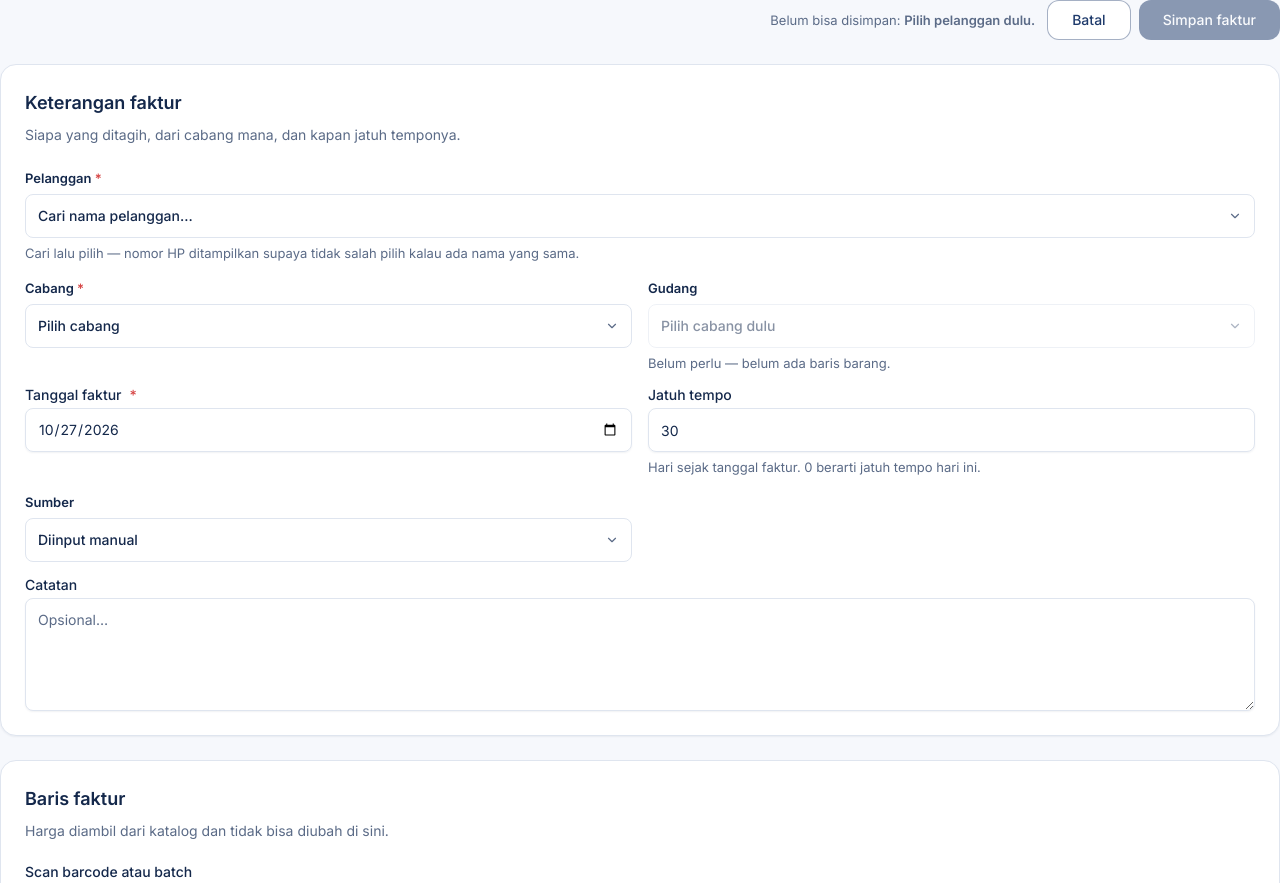
Test: scanning a barcode › a batch label › refuses an expired lot
The image size is (1280, 883).
Click the button "Pilih cabang" at coordinates (79, 325), box [25,304,632,348]
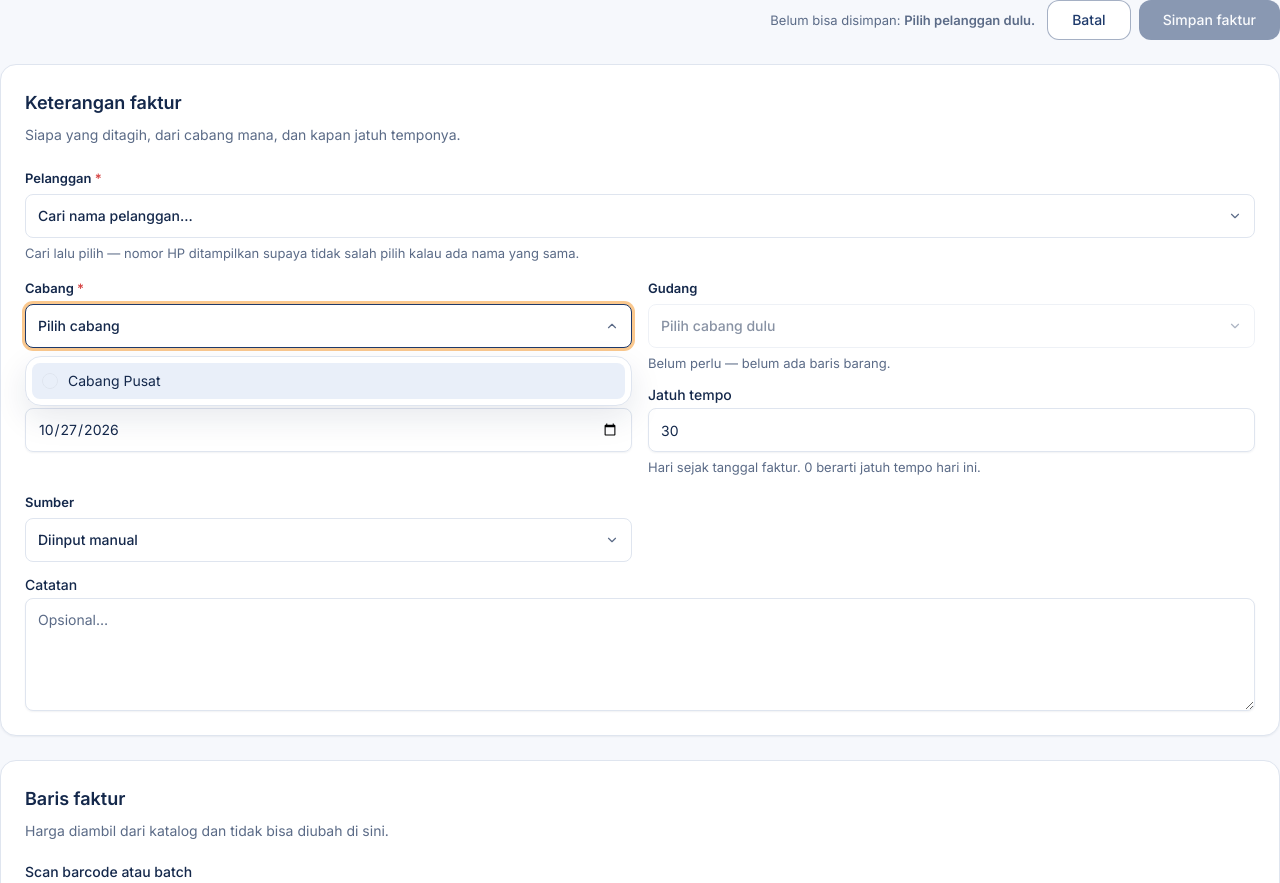
Click the option "Cabang Pusat" at coordinates (114, 380), box [32,363,625,399]
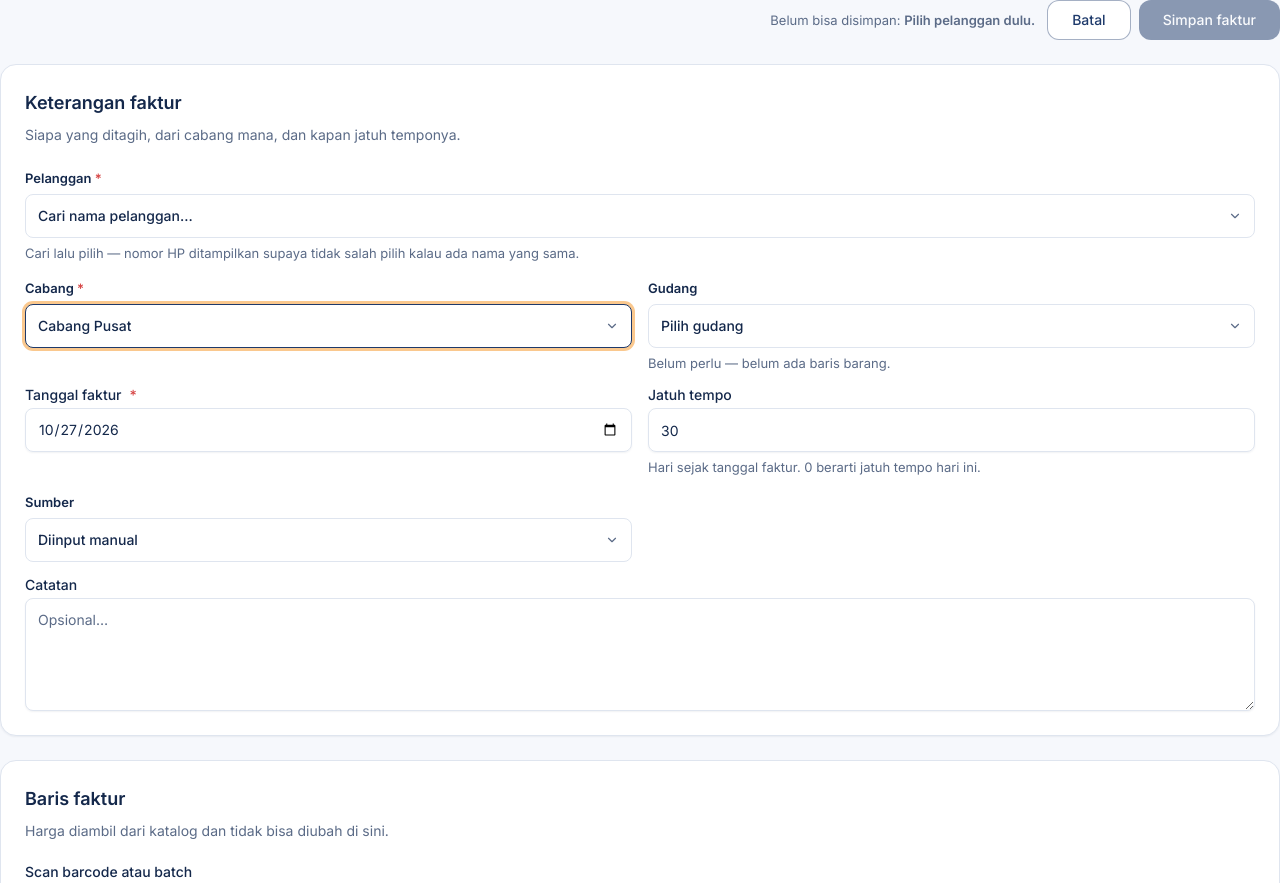
Click the button "Pilih gudang" at coordinates (702, 325), box [648,304,1255,348]
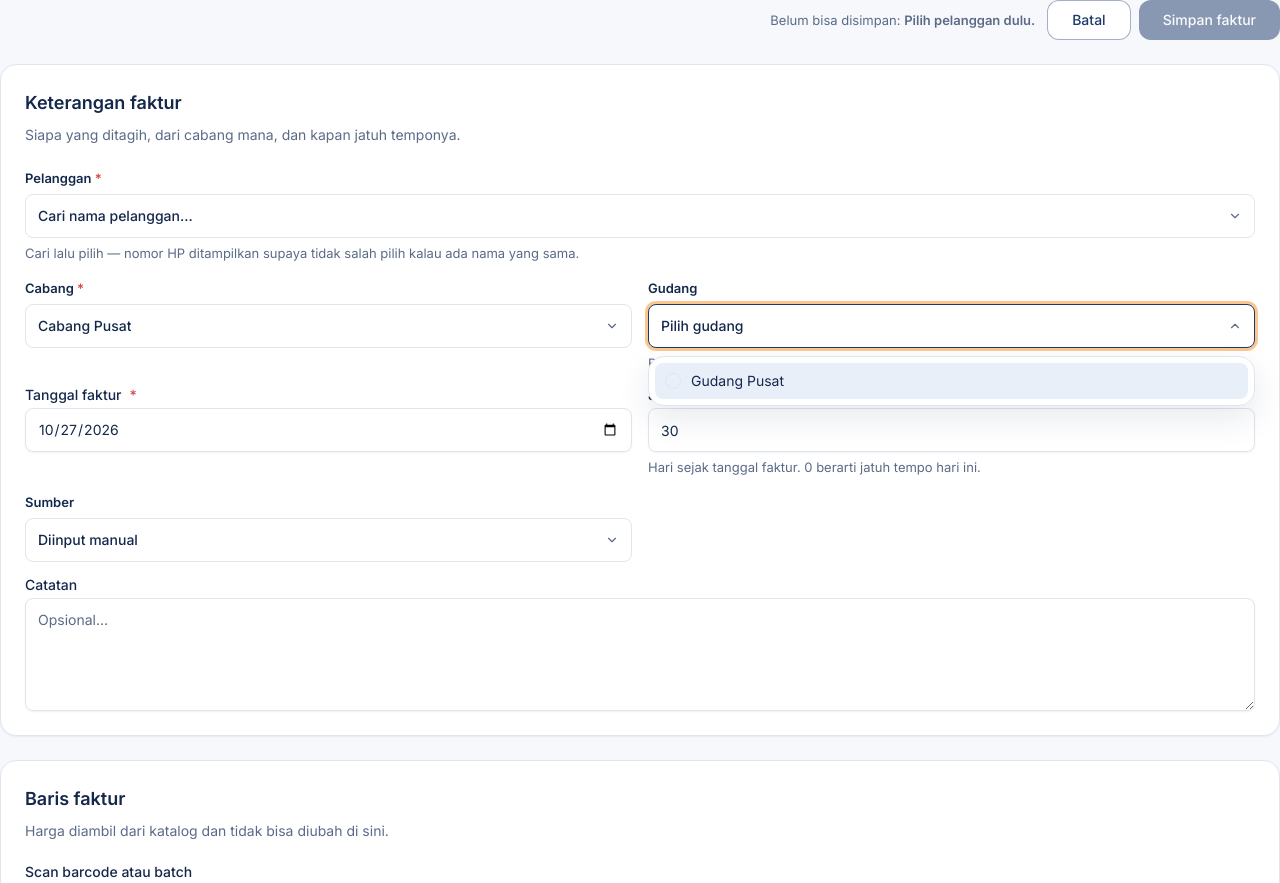
Click the option "Gudang Pusat" at coordinates (738, 380), box [655,363,1248,399]
(page scrolled)
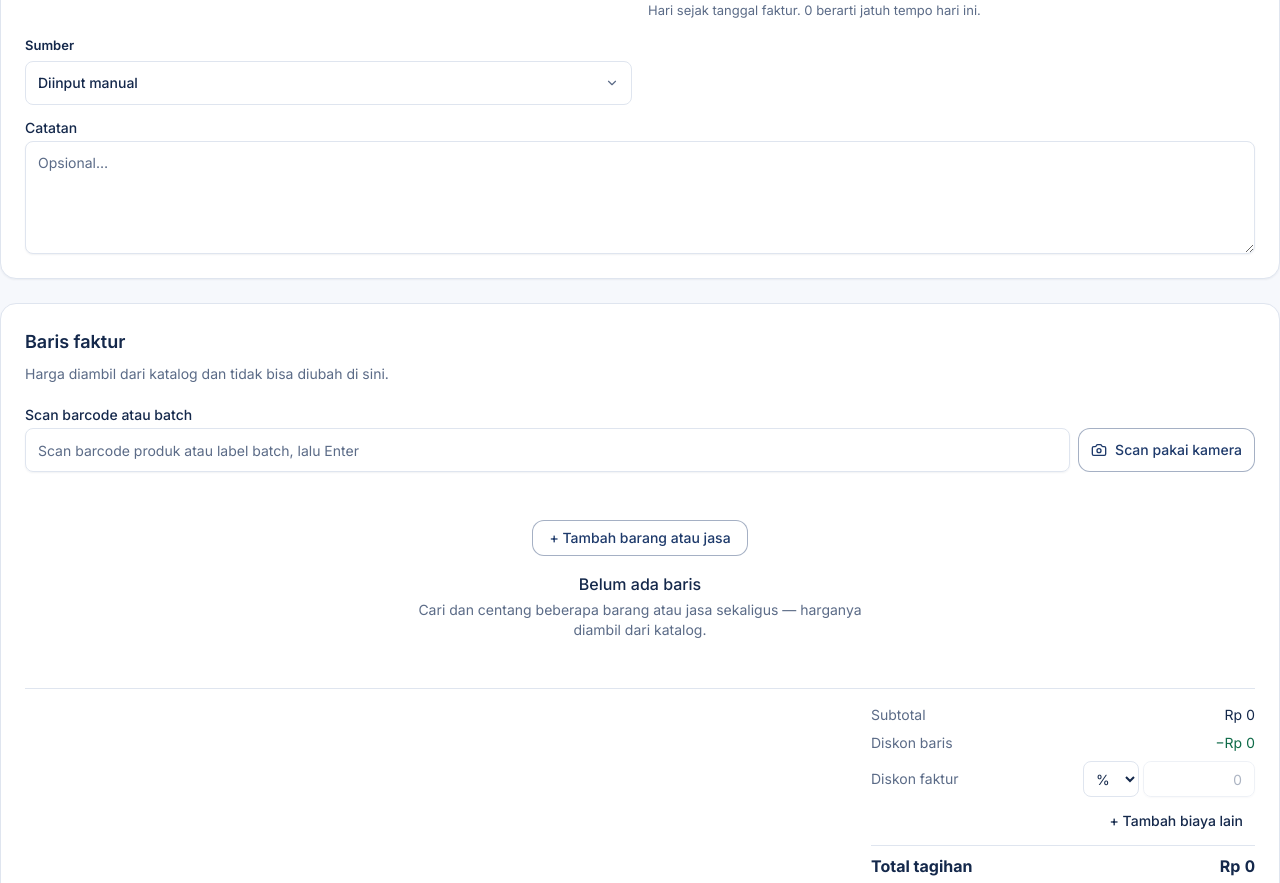
Type "KLG-B26-0001" into the field labelled "Scan barcode atau batch" at coordinates (548, 450), box [25,428,1070,472]
Then press Enter
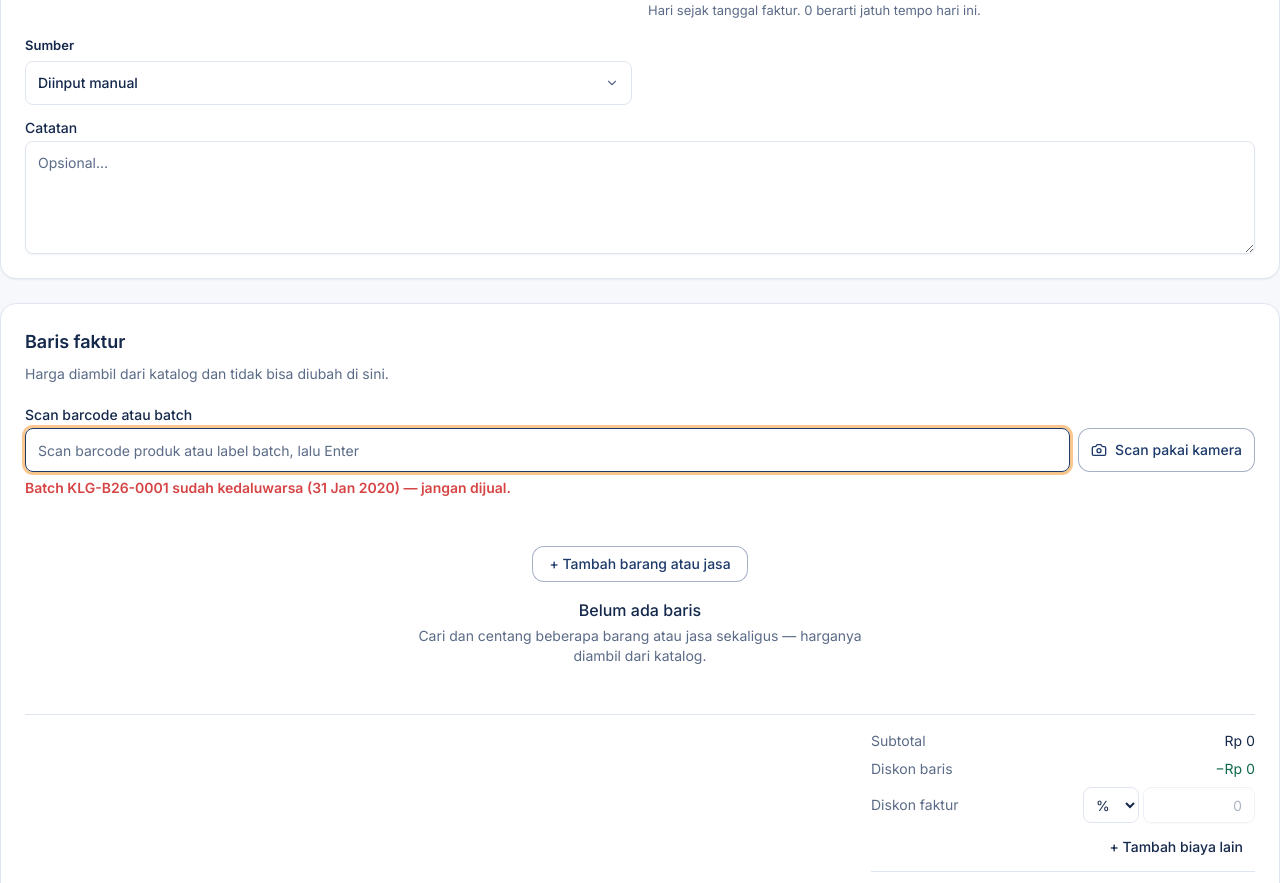
Check: the text "Batch KLG-B26-0001 sudah kedaluwarsa" is shown, box [25,479,511,496]
